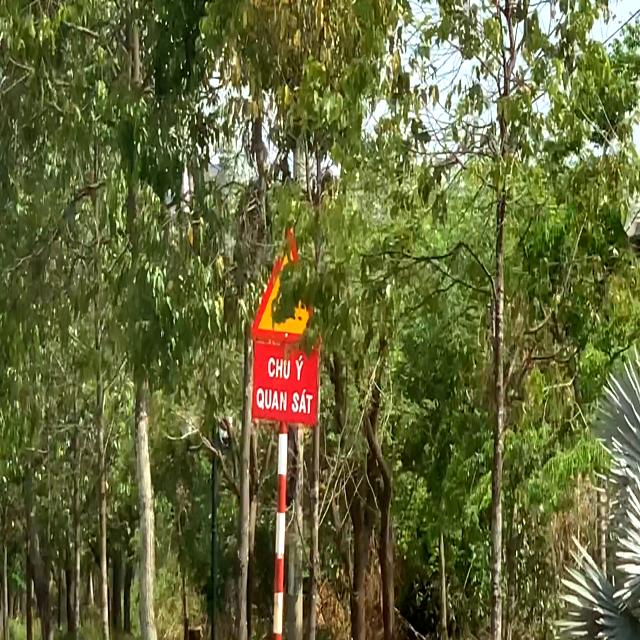W.224: (250, 216, 326, 342)
